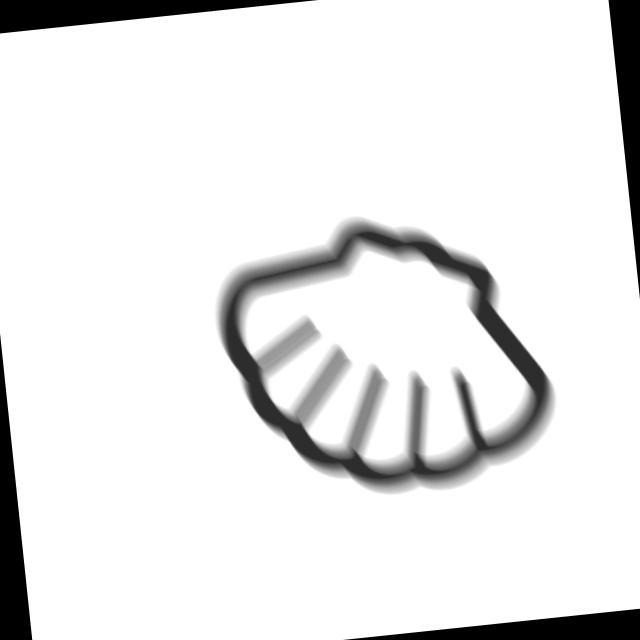shell: (201, 190, 576, 521)
